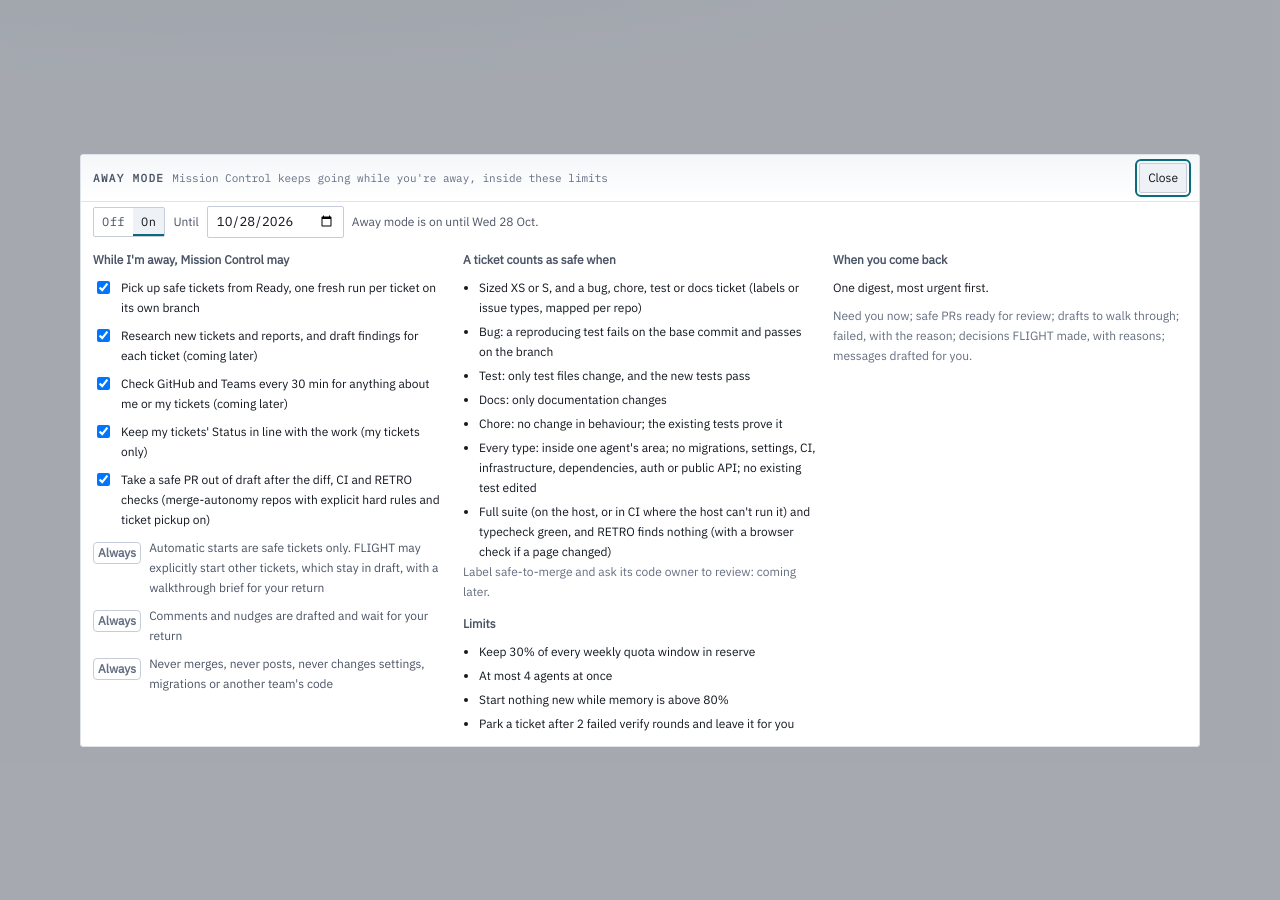
Scenario: AwayModal › an empty date means until you turn it off
Clear the date field labelled "Until" at coordinates (275, 222), box [207,206,344,238]
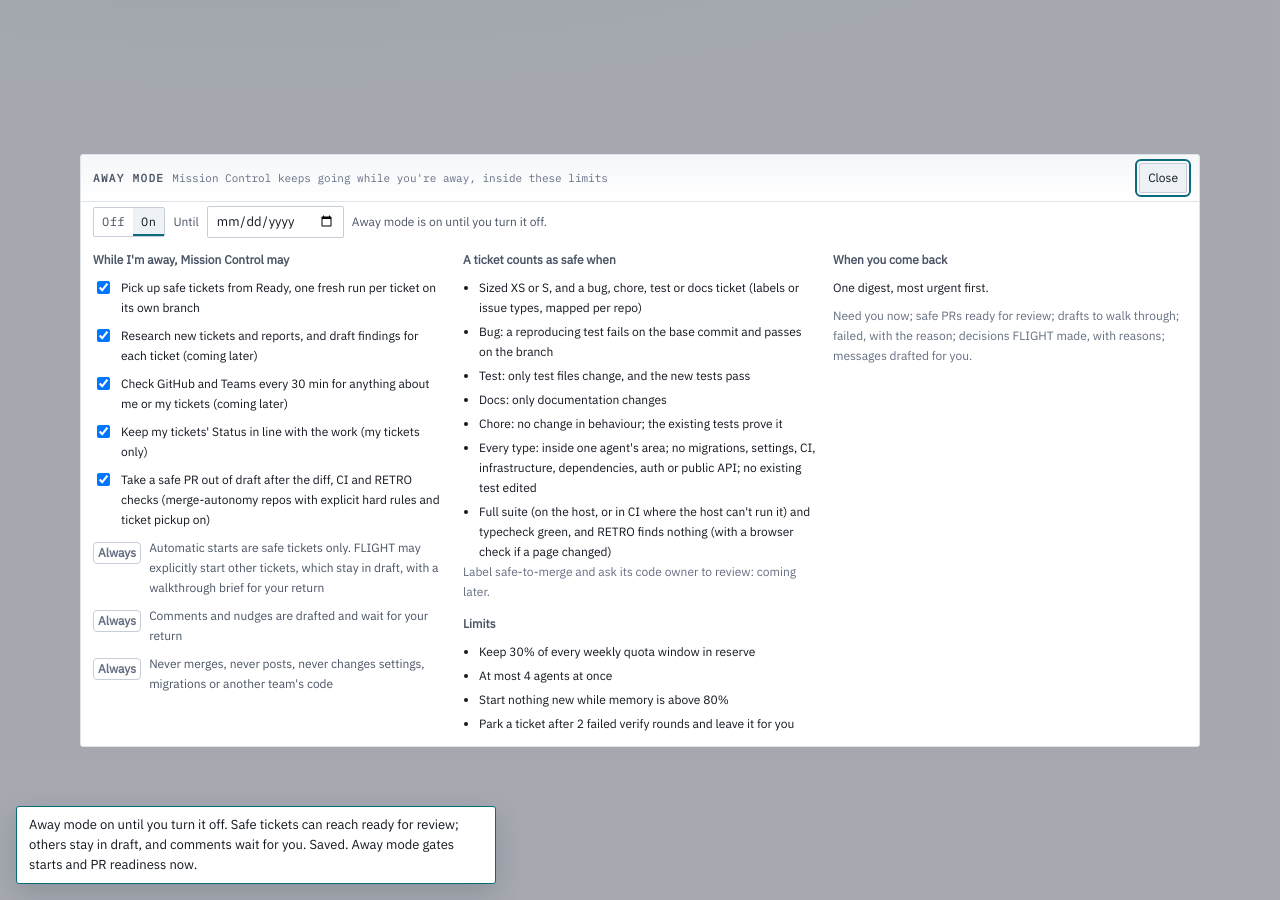
expect the text "Away mode is on until you turn it off." is shown: met, box [352,212,547,232]
